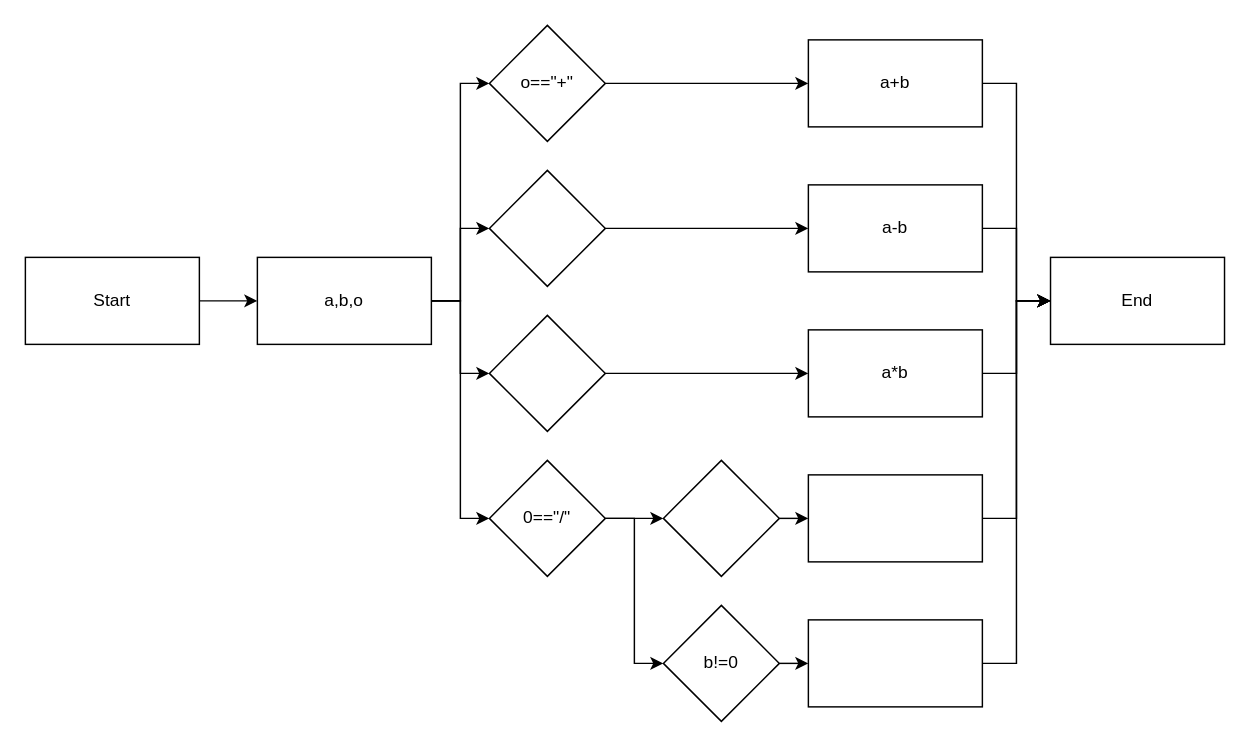
Image size: 1250x747. Some labels were removed from this diagram. The centre of each missing label's shape, as x and y in pixels:
a/b: point (894, 662)
b=0: point (720, 517)
không thể chia: point (894, 517)
o="*": point (546, 372)
o=="-": point (546, 227)
